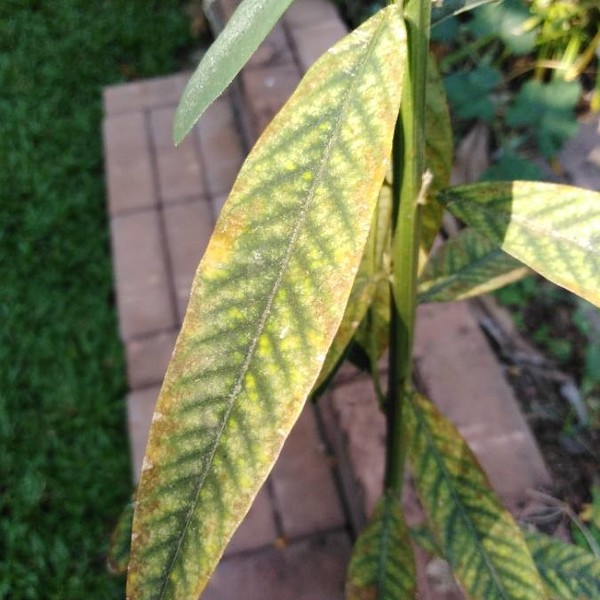obstacle: (157, 16, 490, 545)
